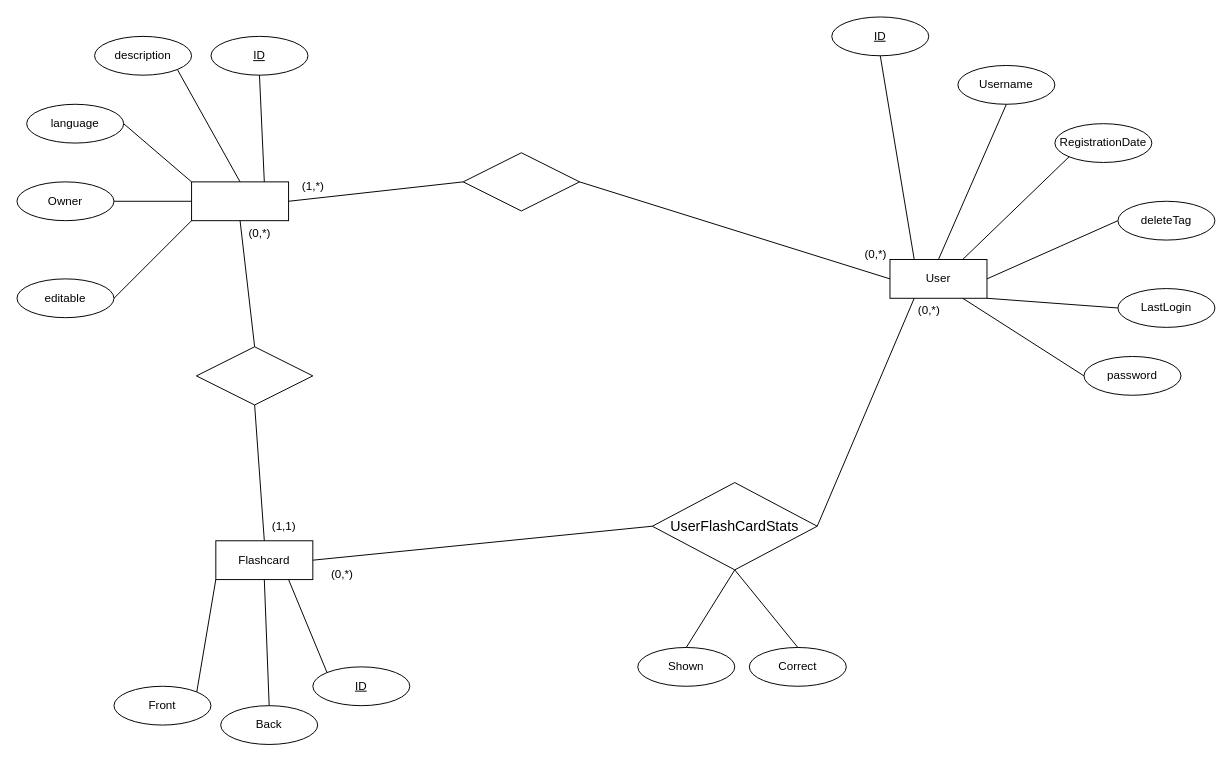
Some shapes in this 1232 by 761 pixel diagram are drawn without their labels. The shapes that lost their labels are listed below. From the top down, each one's centre as x and y in pixels, then its label:
At (240,201): "Deck".
At (521,181): "access".
At (254,375): "in".
